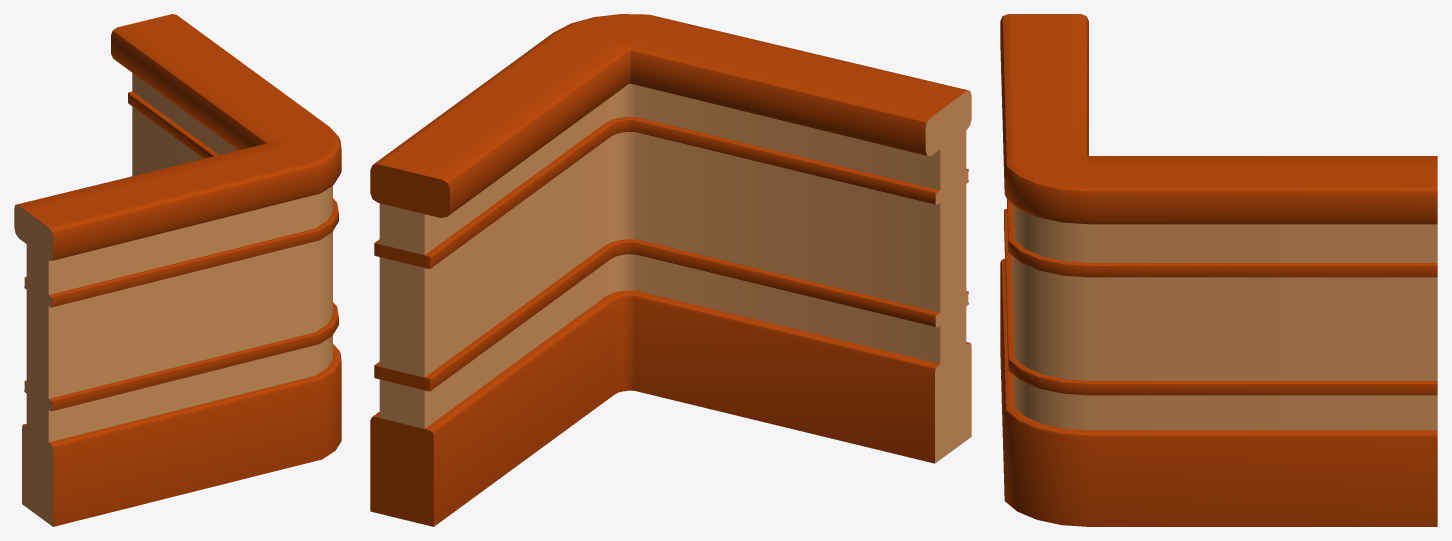
Rendered from New_CornerWalls002.fbx.
3 renders of one model, left to right at view 1: azimuth 30°, elevation 25°; view 2: azimuth 150°, elevation 25°; view 3: azimuth 270°, elevation 25°, orthographic. The views are drawn at different scales.
Parts seen in each view (by area): view 1: Cornerv3; view 2: Cornerv3; view 3: Cornerv3.
Part boxes in pixels (left/top/right/bottom): Cornerv3: left=14, top=14, right=341, bottom=526; Cornerv3: left=370, top=14, right=971, bottom=526; Cornerv3: left=1000, top=14, right=1437, bottom=526.
Bounding box in the file's own units: 299 × 266 × 314.
Materials: 1 (1 with a texture image).
